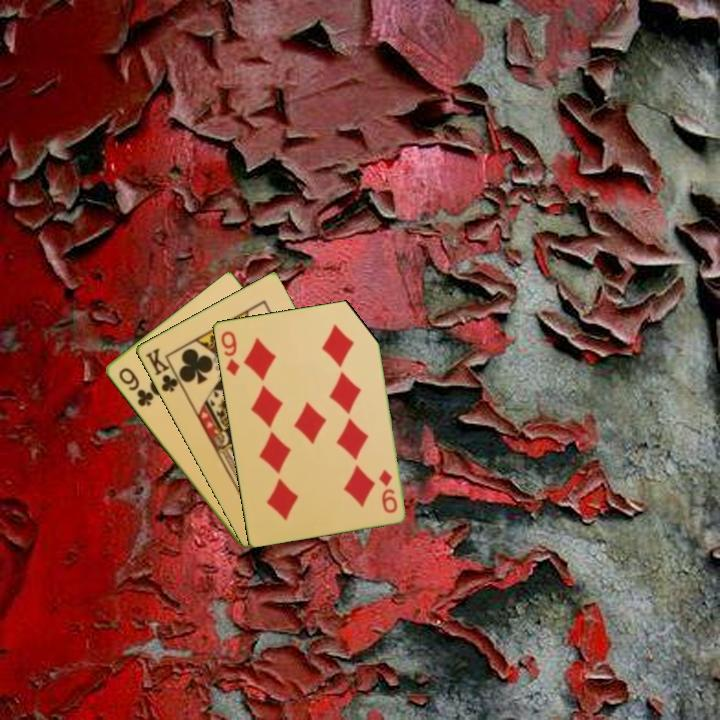9c: (115, 364, 156, 410)
9d: (217, 327, 242, 379), (375, 466, 400, 516)
Kc: (141, 344, 185, 395)
